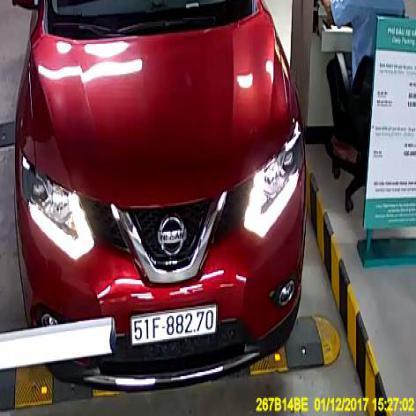biensoxe: (130, 302, 218, 344)
